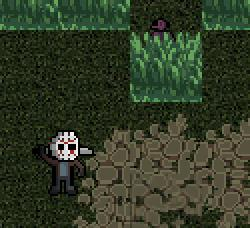Jason: (29, 124, 98, 200)
Slow: (131, 32, 202, 102), (0, 0, 64, 30), (65, 0, 129, 29), (204, 0, 250, 30)
Victim: (141, 19, 179, 54)
